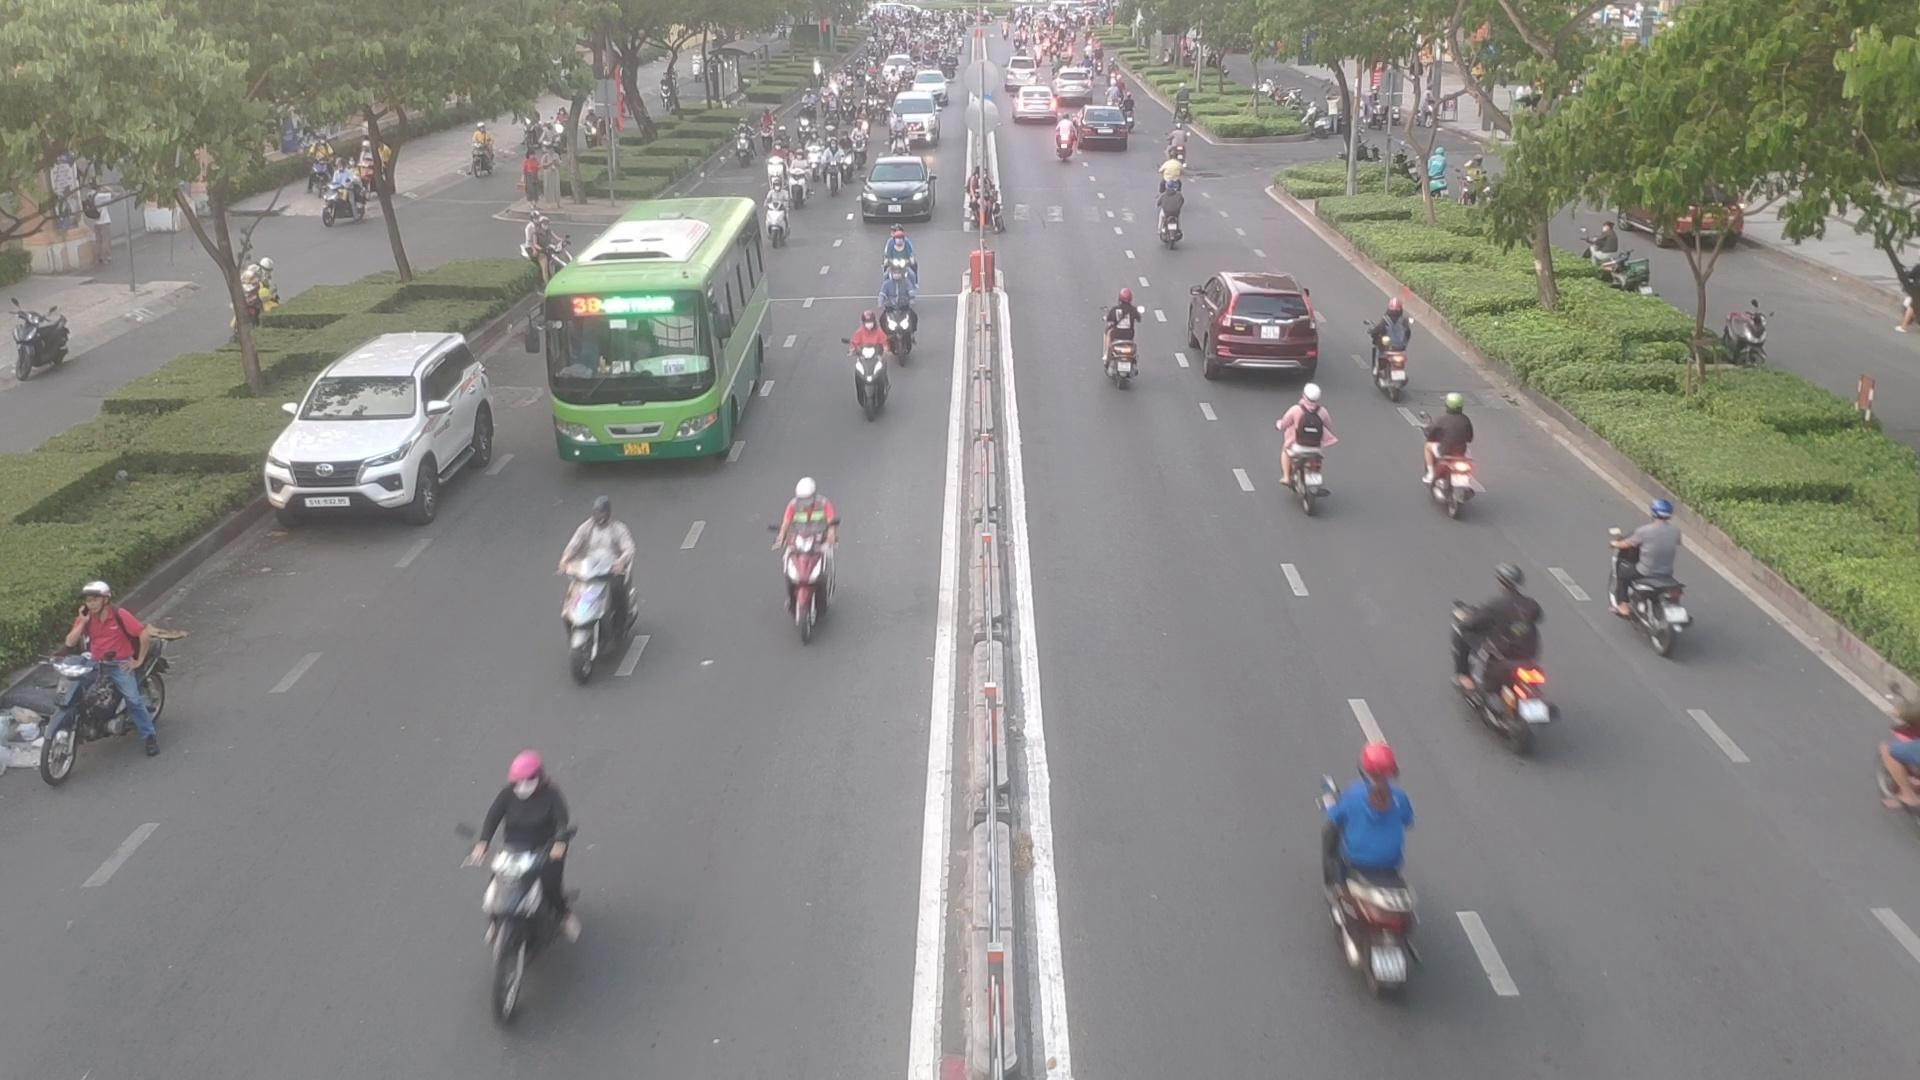bus: (539, 218, 781, 475)
car: (266, 331, 512, 526), (1189, 272, 1327, 382), (858, 156, 944, 225), (1013, 90, 1060, 127)
motorbike: (458, 756, 574, 1015), (1304, 773, 1427, 997), (40, 584, 171, 791), (1452, 571, 1567, 752), (556, 516, 650, 671), (767, 479, 851, 632), (1617, 508, 1702, 651), (840, 280, 916, 417), (1419, 392, 1490, 517), (1267, 392, 1342, 509), (1362, 307, 1424, 398), (1095, 289, 1149, 390), (1145, 166, 1185, 248), (1146, 154, 1185, 199), (1051, 121, 1079, 162)
